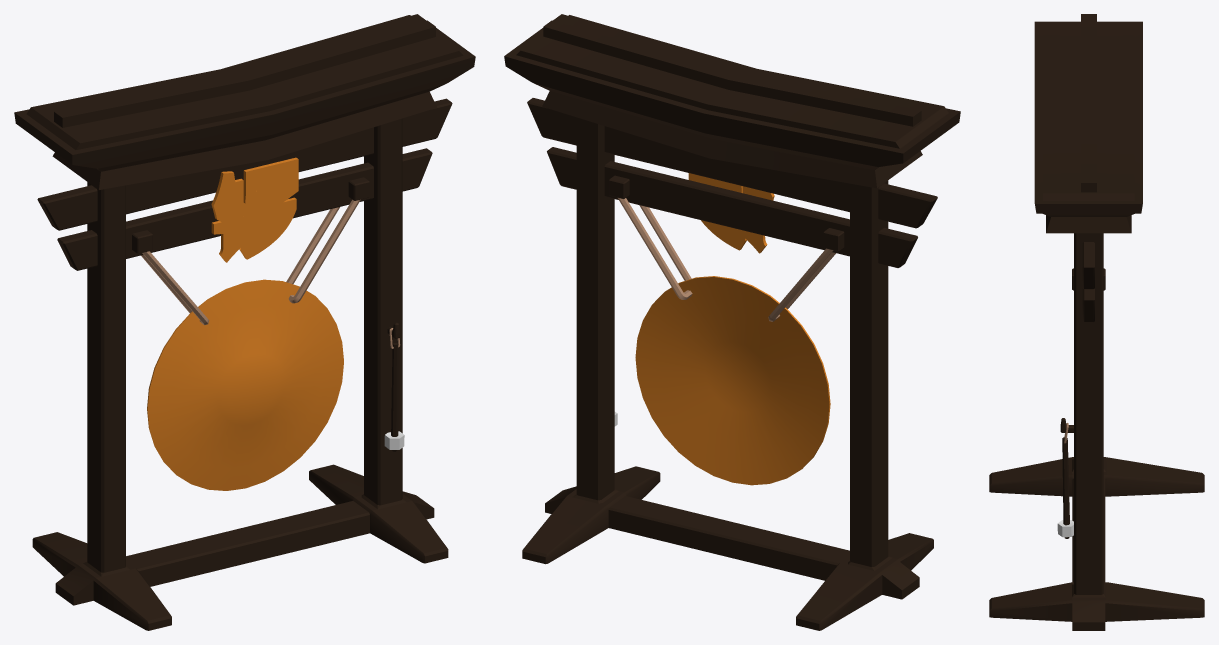
Rendered from Gong.fbx.
3 renders of one model, left to right at view 1: azimuth 30°, elevation 25°; view 2: azimuth 150°, elevation 25°; view 3: azimuth 270°, elevation 25°, orthographic. The views are drawn at different scales.
Visible parts, largest first — view 1: Ständer, Gong, 锣, Cylinder; view 2: Ständer, Gong, 锣; view 3: Ständer, Cylinder.
Part boxes in pixels (x1,y1,x2,y2): Ständer: (14, 14, 475, 630); Gong: (147, 279, 343, 490); 锣: (211, 157, 298, 262); Cylinder: (384, 343, 404, 451); Ständer: (504, 14, 960, 630); Gong: (635, 276, 830, 485); 锣: (688, 173, 774, 253); Ständer: (989, 14, 1204, 630); Cylinder: (1057, 437, 1073, 538).
Bounding box in the file's own units: 265 × 300 × 130.
